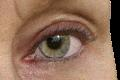eye: (40, 33, 70, 58)
